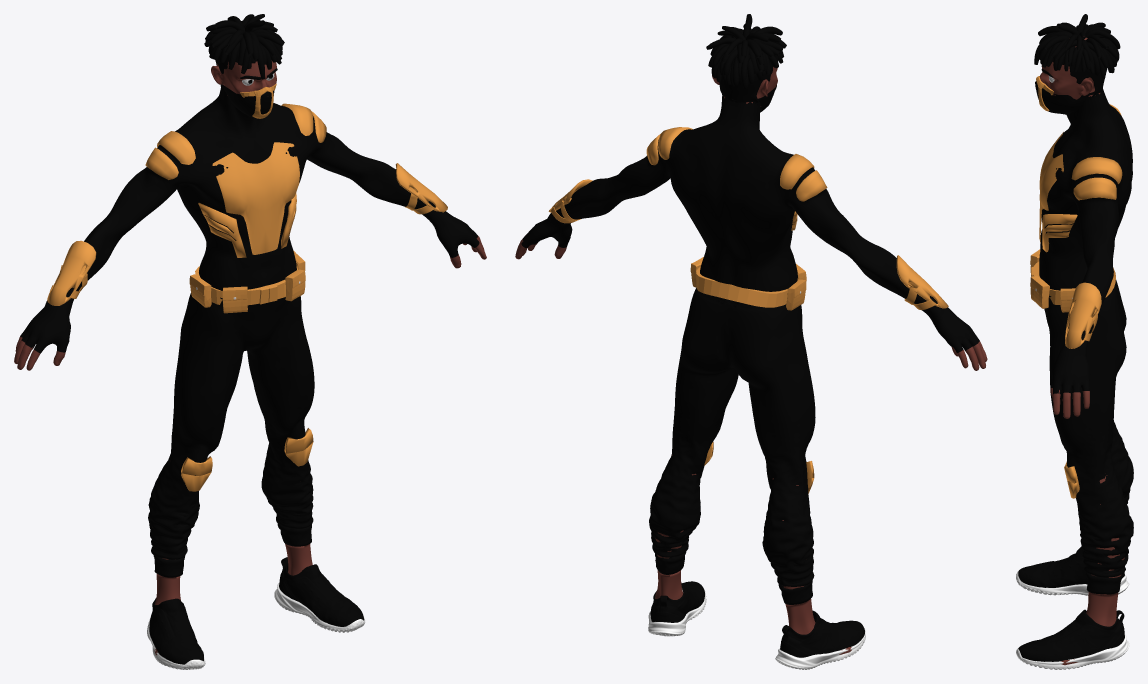
Rendered from asset.glb.
The picture shows the model from 3 angles, left to right: view 1: azimuth 30°, elevation 25°; view 2: azimuth 150°, elevation 25°; view 3: azimuth 270°, elevation 25°; orthographic projection. The views are drawn at different scales.
Visible parts, largest first — view 1: icaro animação_basemesh(remesh).003, icaro calca-fisicaretopo, armadura, Reebok, Cabelo, Sinto, Joelheira, Retopo_icaro animação_basemesh(remesh).001, Cube; view 2: icaro animação_basemesh(remesh).003, icaro calca-fisicaretopo, Reebok, Cabelo, Sinto, armadura, Retopo_icaro animação_basemesh(remesh).002; view 3: icaro animação_basemesh(remesh).003, icaro calca-fisicaretopo, Reebok, Cabelo, armadura, Sinto, Retopo_icaro animação_basemesh(remesh).001, Cube, Retopo_icaro animação_basemesh(remesh).002, Joelheira, mascara.
Boxes of the visible parts, box(x1,y1,x2,y2) form: icaro animação_basemesh(remesh).003: box(14, 86, 486, 655); icaro calca-fisicaretopo: box(148, 293, 314, 577); armadura: box(47, 142, 447, 305); Reebok: box(147, 557, 365, 669); Cabelo: box(204, 14, 284, 79); Sinto: box(189, 250, 305, 313); Joelheira: box(181, 428, 313, 491); Retopo_icaro animação_basemesh(remesh).001: box(211, 60, 277, 95); Cube: box(222, 84, 274, 118); icaro animação_basemesh(remesh).003: box(515, 95, 987, 654); icaro calca-fisicaretopo: box(649, 287, 815, 604); Reebok: box(648, 581, 865, 669); Cabelo: box(706, 14, 786, 88); Sinto: box(690, 257, 806, 310); armadura: box(548, 179, 948, 310); Retopo_icaro animação_basemesh(remesh).002: box(719, 60, 772, 105); icaro animação_basemesh(remesh).003: box(1039, 88, 1132, 665); icaro calca-fisicaretopo: box(1044, 280, 1133, 594); Reebok: box(1016, 546, 1129, 669); Cabelo: box(1034, 14, 1120, 77); armadura: box(1039, 132, 1101, 348); Sinto: box(1030, 249, 1115, 312); Retopo_icaro animação_basemesh(remesh).001: box(1039, 37, 1100, 99); Cube: box(1035, 81, 1097, 114); Retopo_icaro animação_basemesh(remesh).002: box(1052, 48, 1107, 100); Joelheira: box(1064, 461, 1079, 498); mascara: box(1036, 76, 1053, 111).
Bounding box in the file's own units: 1.69 × 2.14 × 0.3784.
